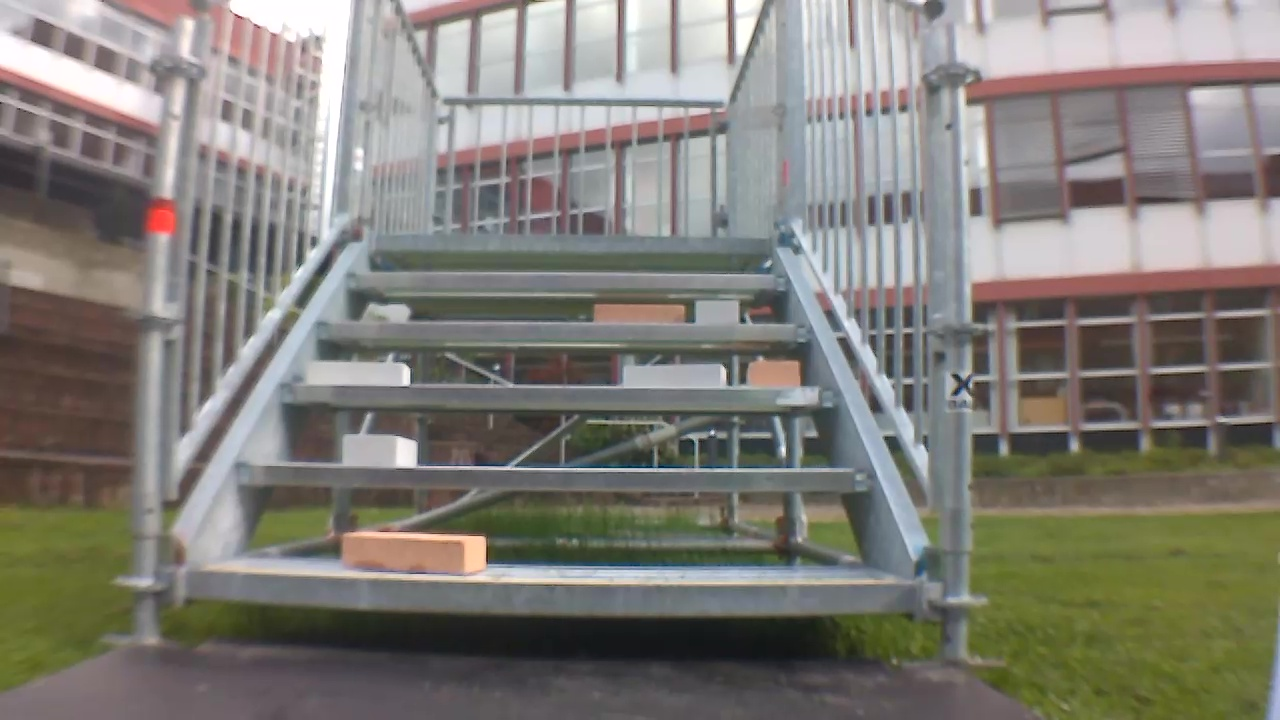brick: (344, 532, 485, 574), (306, 361, 408, 384), (342, 436, 416, 466), (624, 365, 725, 385), (595, 304, 685, 323), (750, 361, 799, 384), (697, 302, 738, 323)
edge: (189, 568, 921, 616), (235, 463, 869, 491), (282, 383, 838, 409), (315, 322, 814, 342), (346, 273, 790, 290), (376, 234, 775, 252)
stairs: (113, 5, 992, 665)
steps: (181, 225, 934, 624)
